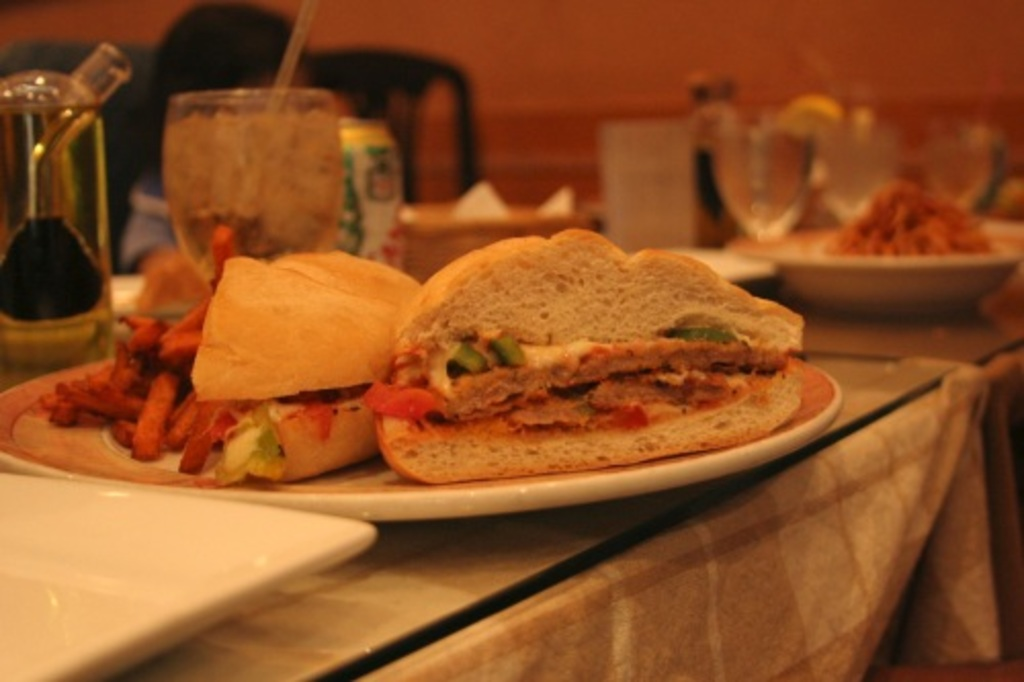sandwich: (371, 221, 807, 475)
